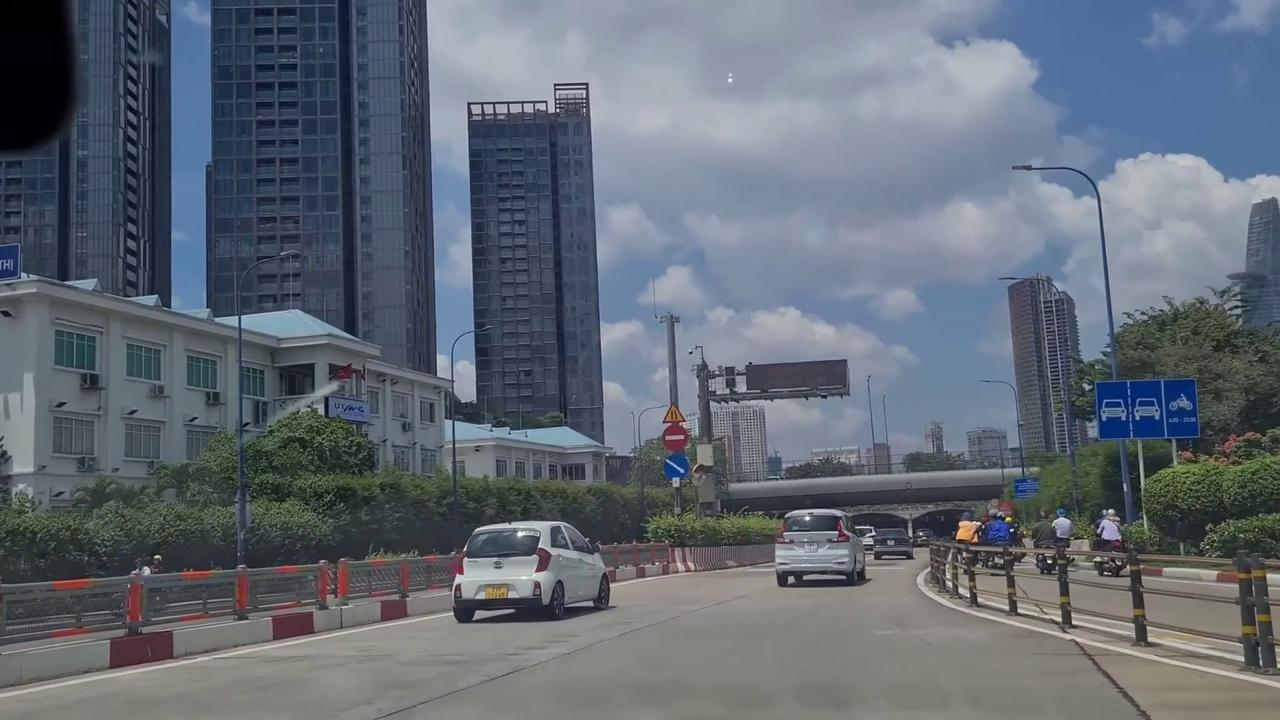Cấm đi ngược chiều: (662, 424, 689, 452)
Hướng phải đi vòng sang phải: (663, 453, 688, 481)
Làn đường cho từng xe: (1094, 377, 1201, 441)
Đuờng hẹp: (661, 402, 688, 423)
